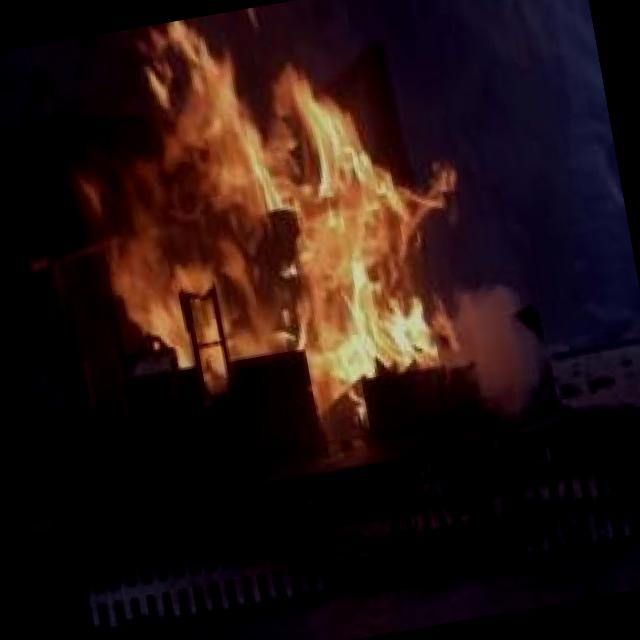fire: (25, 0, 514, 419)
